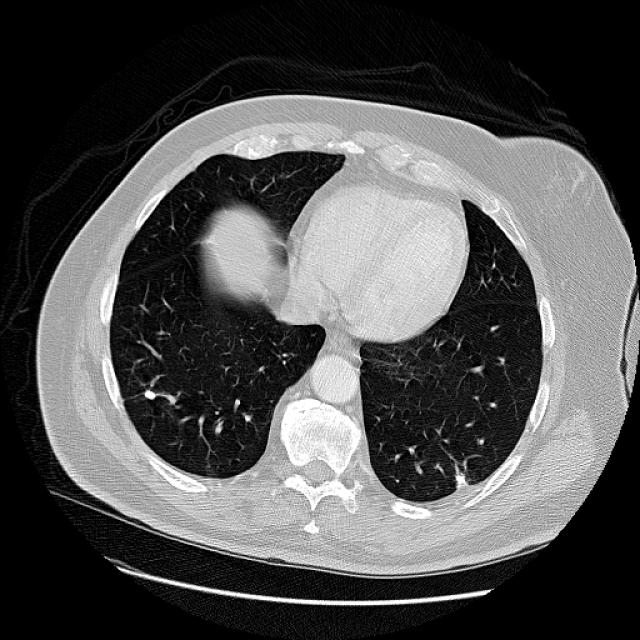nodule: (136, 382, 162, 406)
